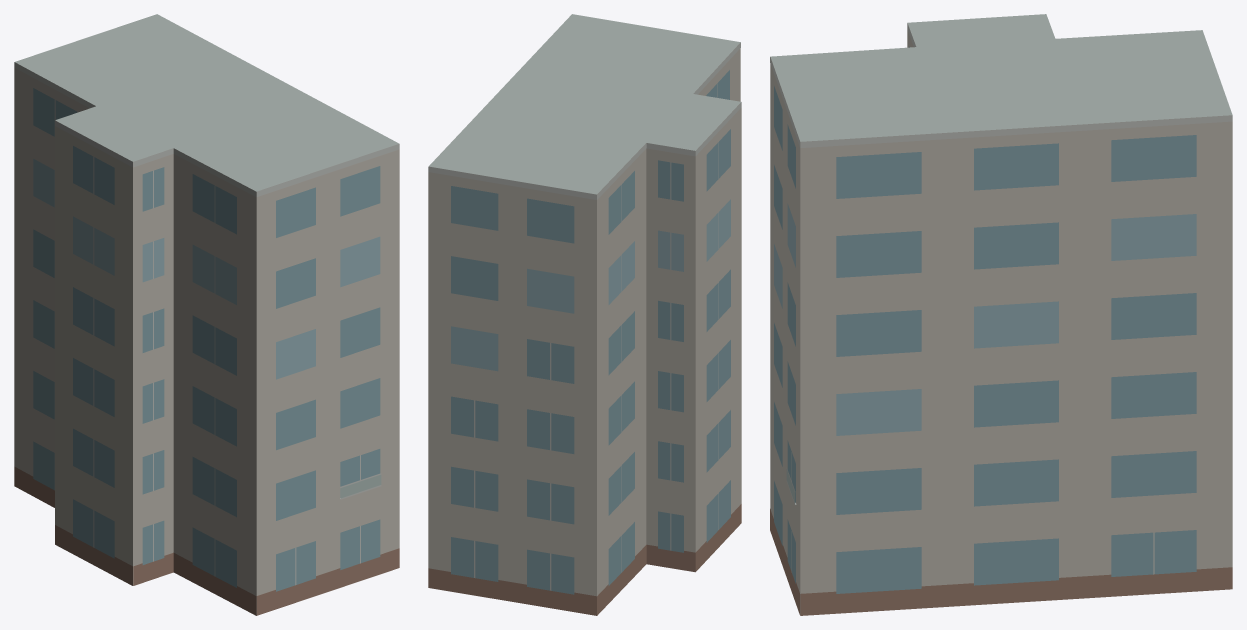
The model's file is survey-upis-32747547.glb.
3 renders of one model, left to right at view 1: azimuth 30°, elevation 25°; view 2: azimuth 150°, elevation 25°; view 3: azimuth 270°, elevation 25°, orthographic. The views are drawn at different scales.
Parts seen in each view (by area): view 1: survey-upis-32747547.tmp; view 2: survey-upis-32747547.tmp; view 3: survey-upis-32747547.tmp.
Boxes of the visible parts, x1,y1,x2,y2 form: survey-upis-32747547.tmp: (14,14,399,615); survey-upis-32747547.tmp: (428,14,741,615); survey-upis-32747547.tmp: (770,14,1232,615).
Bounding box in the file's own units: 10.59 × 18.3 × 16.19.
